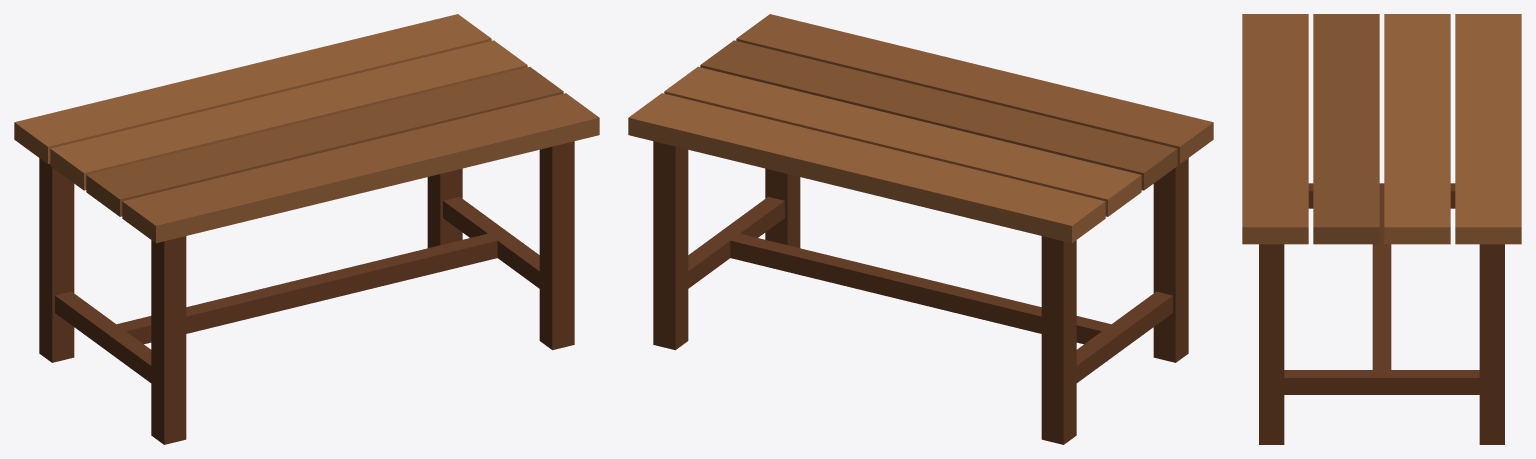
File: table.glb
The picture shows the model from 3 angles, left to right: view 1: azimuth 30°, elevation 25°; view 2: azimuth 150°, elevation 25°; view 3: azimuth 270°, elevation 25°; orthographic projection.
Visible parts, largest first — view 1: props/table; view 2: props/table; view 3: props/table.
Part boxes in pixels (box(x1,y1,x2,y2)): props/table: box(14, 14, 599, 444); props/table: box(628, 14, 1213, 444); props/table: box(1242, 14, 1521, 444).
Bounding box in the file's own units: 1.6 × 0.79 × 0.885.
